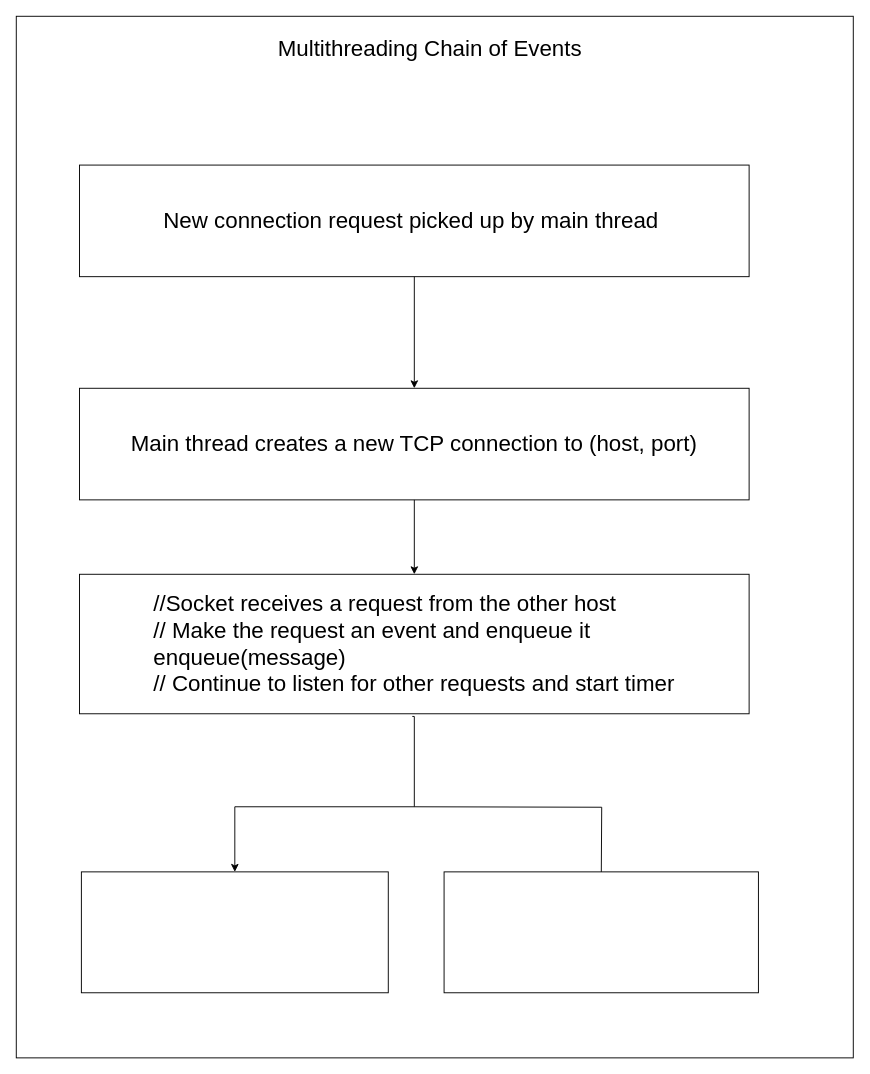
Some shapes in this 870 by 1074 pixel diagram are drawn without their labels. Here are the shapes that lost their labels. From the top down, the centre of each, then its label:
point 234,932: //Result delivered, write back to socket.
point 600,932: //If 30s of inactivity -> Trigger GC chain of events
